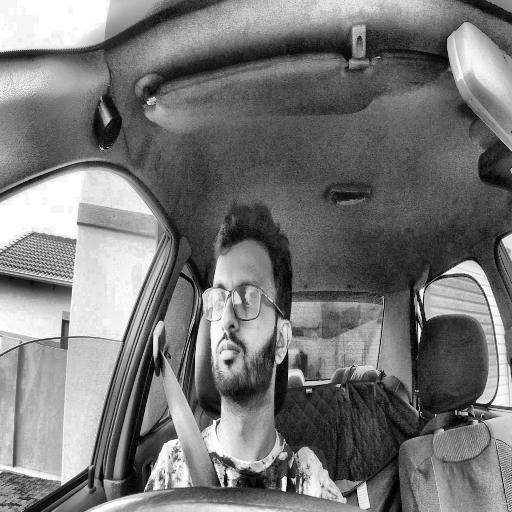awake: (201, 203, 293, 407)
